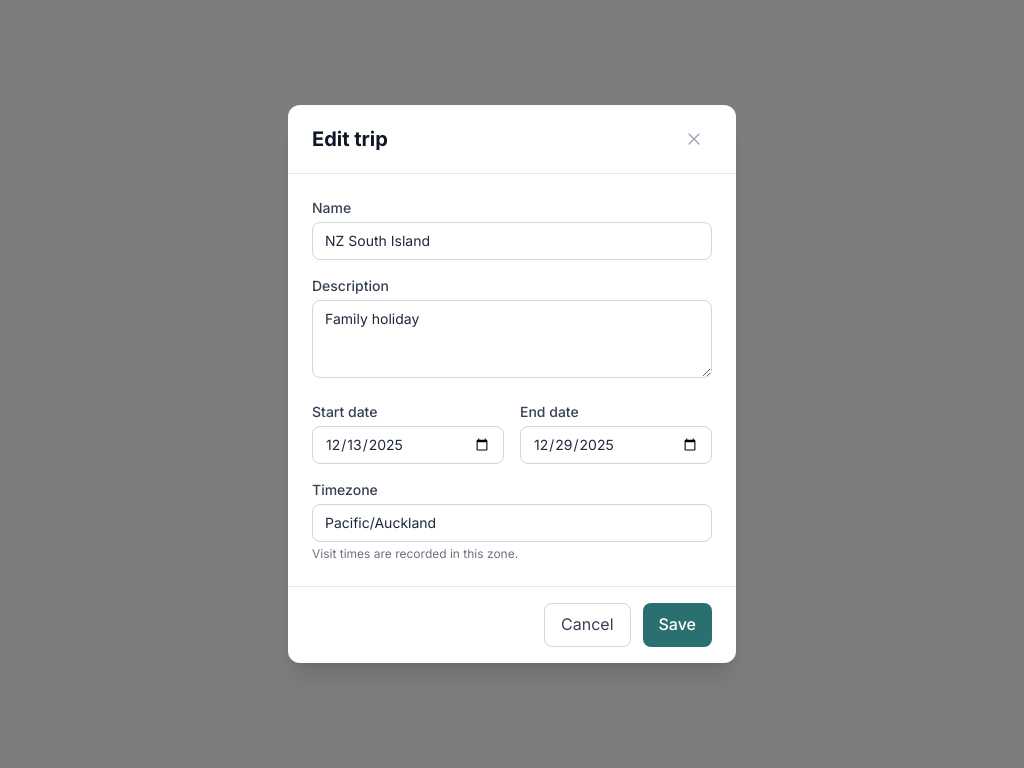
Test: TripMetadataFormModal › blocks submit when the timezone is not a zone the runtime knows
The image size is (1024, 768).
Replace the text in the field labelled "Timezone" with "Mars/Olympus" at (512, 523), box [312,504,712,542]
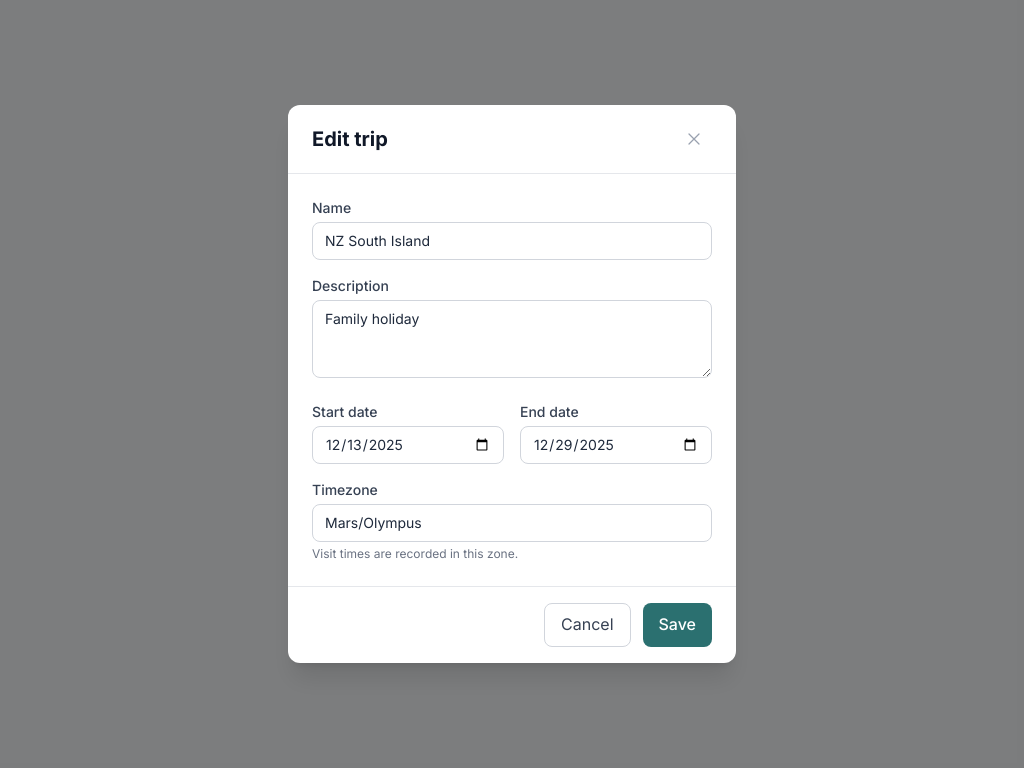
Click the button "Save".
click(677, 625)  # box [642,603,712,647]
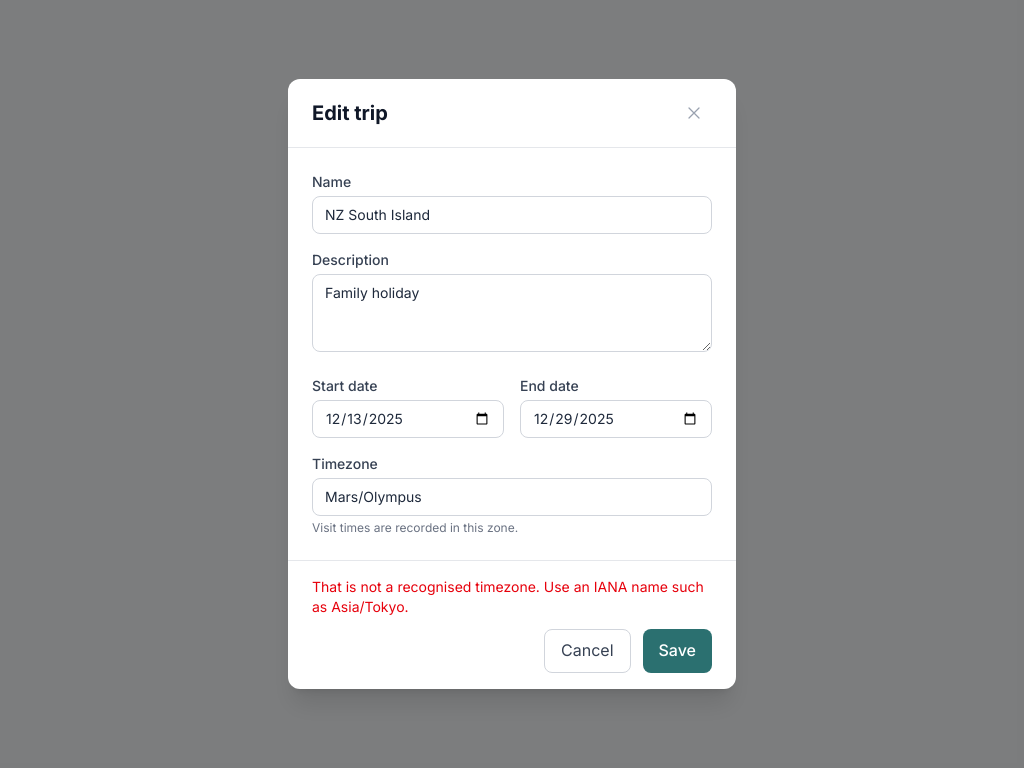
Check: the text "not a recognised timezone" is shown, box [312,578,704,615]
